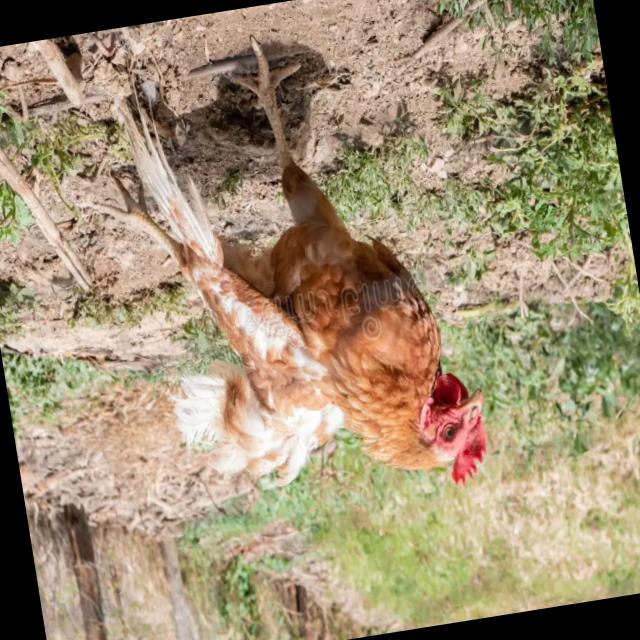leg stretching: (71, 18, 513, 554)
